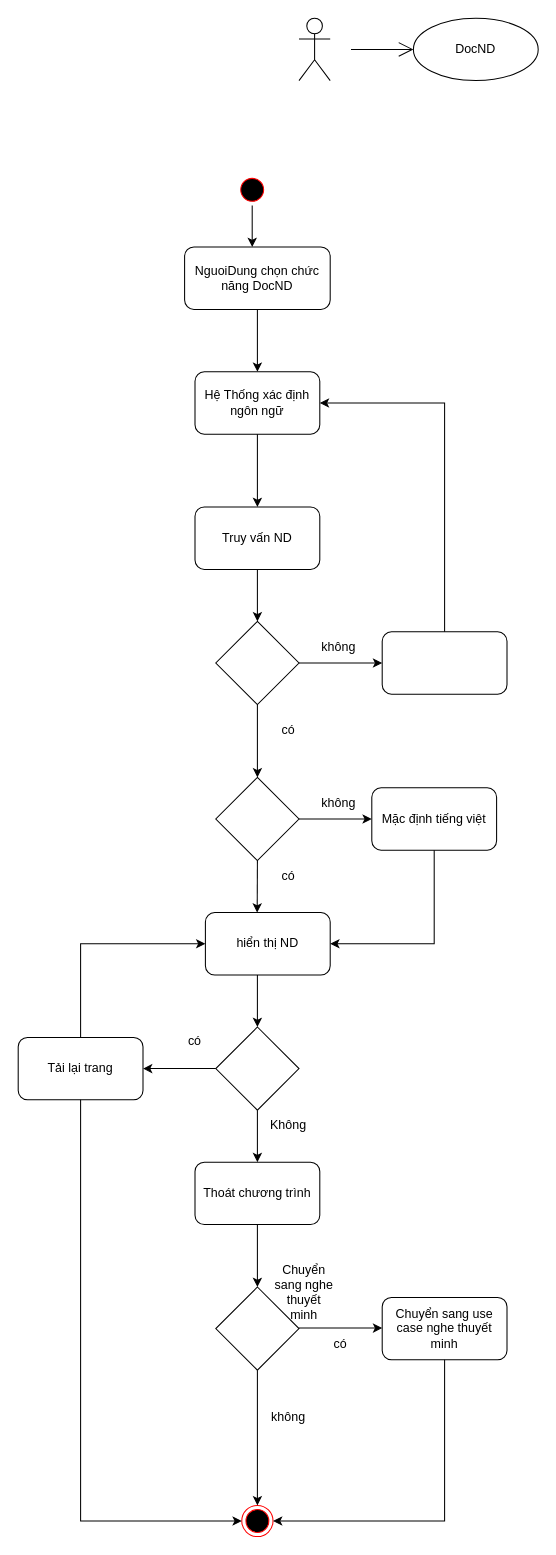
Some shapes in this 556 by 1555 pixel diagram are drawn without their labels. Here are the shapes that lost their labels. From the top down, the centre of each, then its label:
At (x=314, y=49): "NguoiDung".
At (x=257, y=662): "Tải dc".
At (x=444, y=662): "Báo lỗi".
At (x=257, y=818): "bản dịch".
At (x=257, y=1068): "Đổi ngôn ngữ".
